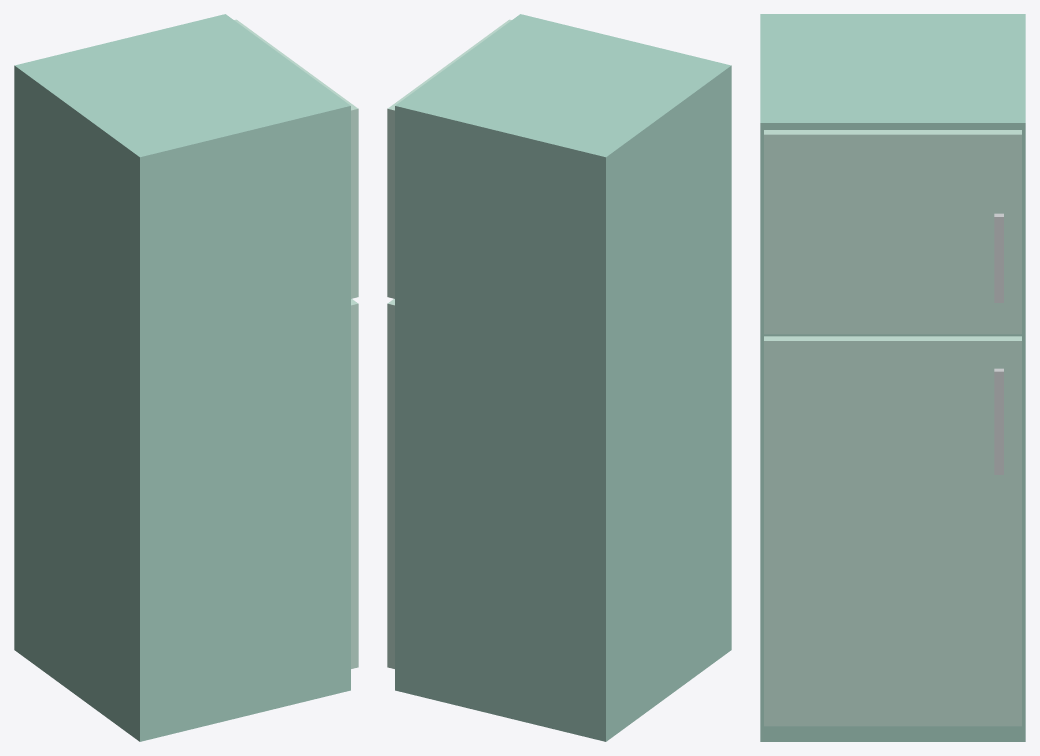
The model's file is fridge.glb.
The picture shows the model from 3 angles, left to right: view 1: azimuth 30°, elevation 25°; view 2: azimuth 150°, elevation 25°; view 3: azimuth 270°, elevation 25°; orthographic projection. The views are drawn at different scales.
Size of the model in its own units: 0.73 by 1.8 by 0.7.
